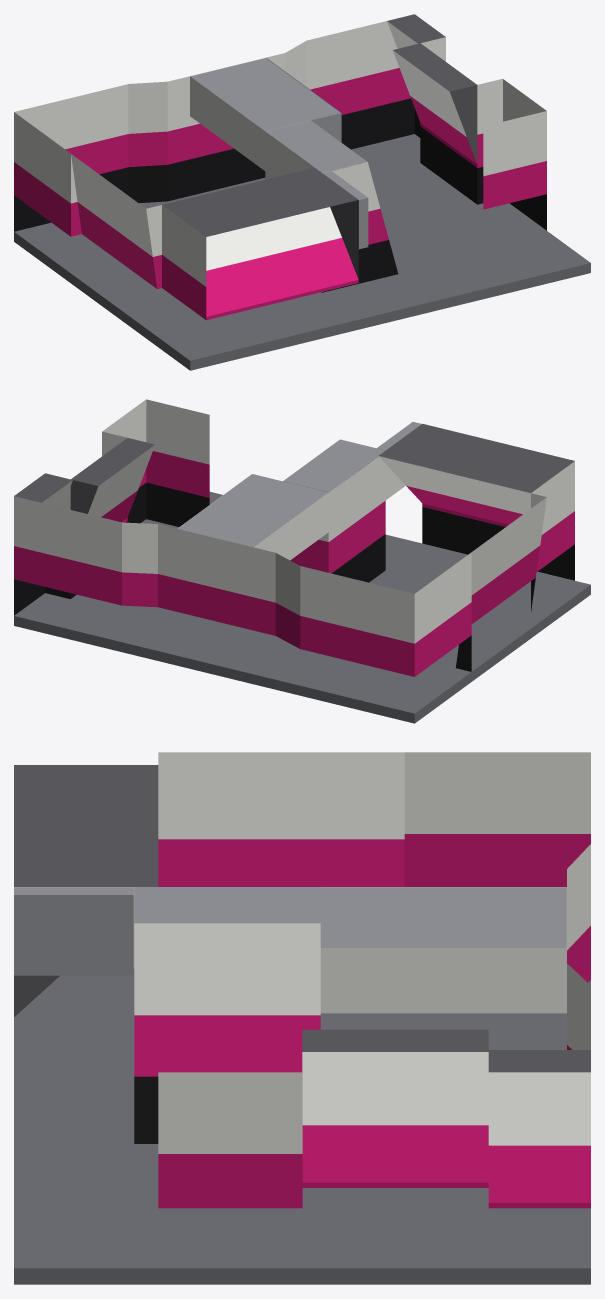
The model's file is hangout_blockout.obj.
3 views of the same model, one above another, from view 1: azimuth 30°, elevation 25°; view 2: azimuth 150°, elevation 25°; view 3: azimuth 270°, elevation 25° (orthographic). The views are drawn at different scales.
Visible parts, largest first — view 1: mats, W15_p1_1.20, W15_cap, block_bridge, W1_p2_2.40, W7_p2_2.40, W19_p0_2.40, W16_p2_2.40, W7_p0_0.00, block_box-top, W13_p2_2.40, W7_p1_1.20 (+42 smaller); view 2: mats, W15_cap, block_bridge, W1_p2_2.40, W7_p2_2.40, W1_p1_1.20, W7_p1_1.20, W15_p0_0.00, W4_p2_2.40, W15_p2_2.40, block_box-top, W16_p2_2.40 (+42 smaller); view 3: mats, W15_cap, W16_p2_2.40, W20_p0_2.40, block_bridge, W23_p2_2.40, W18_p2_2.40, W16_p1_1.20, W10_p1_1.20, block_cave-arch, W10_p2_2.40, W23_p1_1.20 (+21 smaller).
Boxes of the visible parts, box(x1,y1,x2,y2) form: mats: box(14, 134, 590, 370); W15_p1_1.20: box(206, 238, 358, 316); W15_cap: box(162, 167, 358, 236); block_bridge: box(191, 58, 341, 141); W1_p2_2.40: box(14, 84, 128, 141); W7_p2_2.40: box(306, 21, 397, 80); W19_p0_2.40: box(190, 76, 265, 170); W16_p2_2.40: box(71, 154, 151, 246); W7_p0_0.00: box(341, 98, 414, 149); block_box-top: box(265, 120, 366, 172); W13_p2_2.40: box(483, 111, 546, 166); W7_p1_1.20: box(310, 68, 409, 111); mats: box(14, 491, 590, 723); W15_cap: box(379, 423, 574, 492); block_bridge: box(178, 474, 327, 547); W1_p2_2.40: box(300, 566, 414, 633); W7_p2_2.40: box(14, 496, 121, 562); W1_p1_1.20: box(300, 616, 414, 673); W7_p1_1.20: box(14, 546, 121, 602); W15_p0_0.00: box(422, 507, 574, 580); W4_p2_2.40: box(177, 529, 253, 587); W15_p2_2.40: box(379, 456, 530, 510); block_box-top: box(284, 439, 384, 492); W16_p2_2.40: box(471, 497, 546, 586); mats: box(14, 969, 590, 1284); W15_cap: box(14, 765, 158, 886); W16_p2_2.40: box(158, 752, 404, 821); W20_p0_2.40: box(320, 948, 566, 1013); block_bridge: box(320, 887, 566, 947); W23_p2_2.40: box(134, 923, 320, 996); W18_p2_2.40: box(404, 752, 590, 817); W16_p1_1.20: box(158, 839, 404, 886); W10_p1_1.20: box(302, 1125, 488, 1182); block_cave-arch: box(14, 887, 133, 975); W10_p2_2.40: box(302, 1052, 488, 1106); W23_p1_1.20: box(134, 1015, 320, 1070).
Size of the model in its own units: 12.6 by 3.9 by 9.6.
